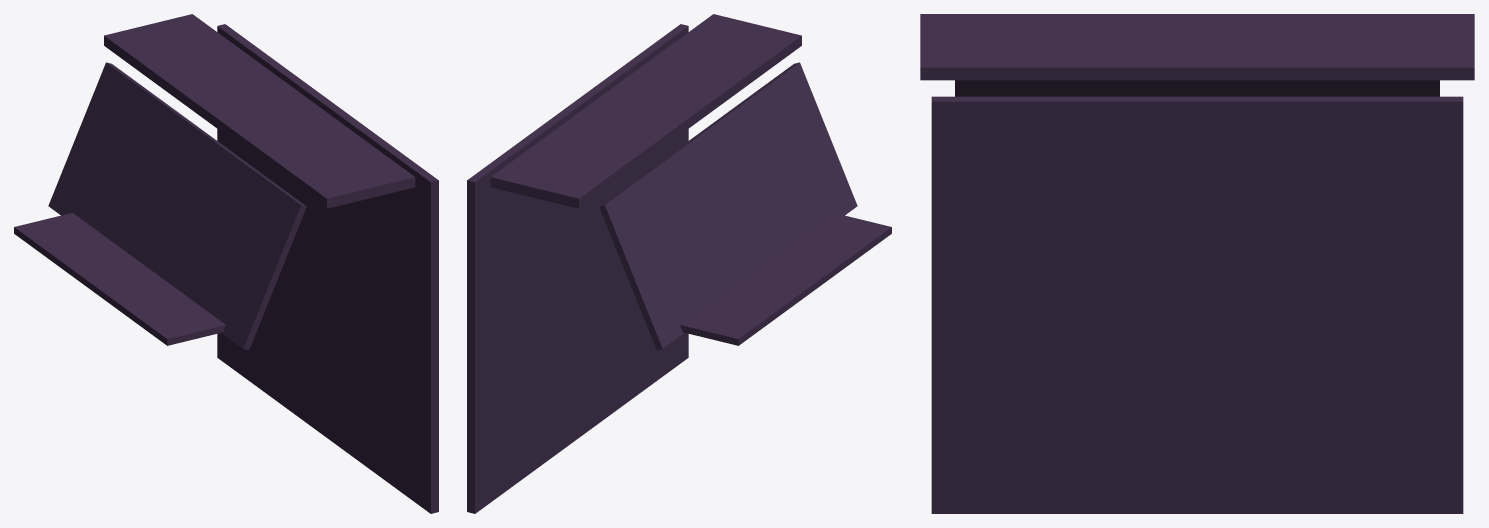
The model's file is main-sofa-throw.glb.
3 views of the same model, side by side, from view 1: azimuth 30°, elevation 25°; view 2: azimuth 150°, elevation 25°; view 3: azimuth 270°, elevation 25° (orthographic). The views are drawn at different scales.
Parts seen in each view (by area): view 1: accent-purple; view 2: accent-purple; view 3: accent-purple.
Part boxes in pixels (x1,y1,x2,y2): accent-purple: (14,14,438,513); accent-purple: (467,14,891,513); accent-purple: (920,14,1474,513).
Bounding box in the file's own units: 0.3 × 0.41 × 0.48.
